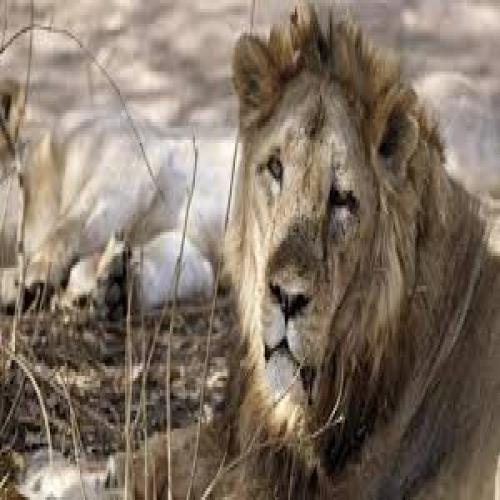lion-endangered: (131, 21, 500, 500), (0, 75, 246, 312)
